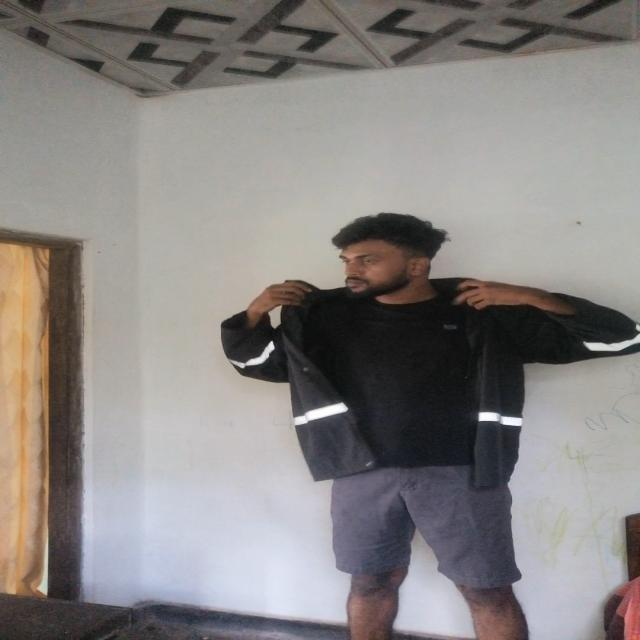Jacket_Wearer: (219, 281, 640, 495)
